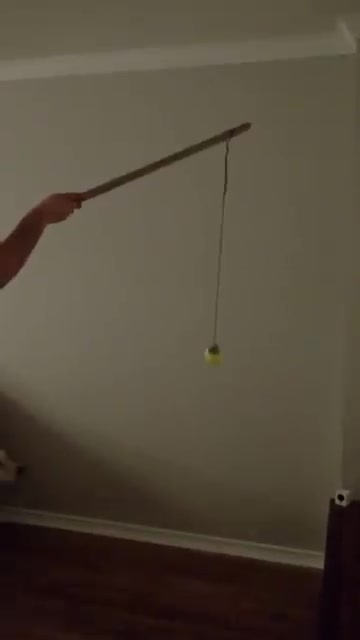tennis_ball: (202, 345, 225, 370)
